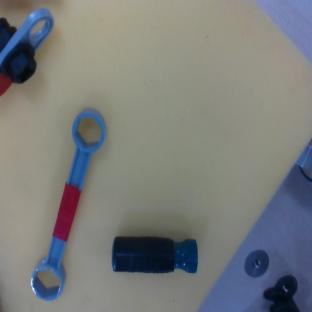part_1_good: (0, 8, 54, 96)
part_2_bad: (112, 237, 197, 273)
part_3_good: (26, 104, 111, 303)
